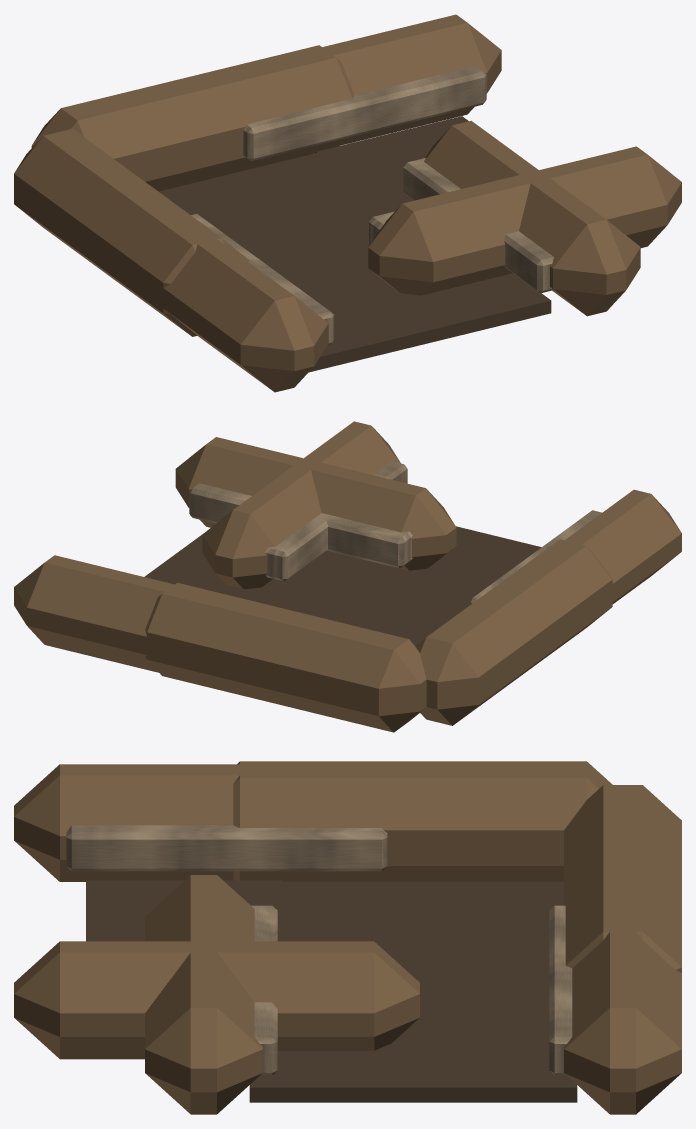
Rendered from trench_corner.glb.
3 views of the same model, one above another, from view 1: azimuth 30°, elevation 25°; view 2: azimuth 150°, elevation 25°; view 3: azimuth 270°, elevation 25° (orthographic). The views are drawn at different scales.
Visible parts, largest first — view 1: trench_corner__Earth_revetment, trench_corner__Trench_dark_earth, trench_corner__Timber_worn_edges; view 2: trench_corner__Earth_revetment, trench_corner__Trench_dark_earth, trench_corner__Timber_worn_edges; view 3: trench_corner__Earth_revetment, trench_corner__Trench_dark_earth, trench_corner__Timber_worn_edges.
Part boxes in pixels (<box>): trench_corner__Earth_revetment: <box>14,14,681,392</box>; trench_corner__Trench_dark_earth: <box>159,116,551,372</box>; trench_corner__Timber_worn_edges: <box>191,66,553,344</box>; trench_corner__Earth_revetment: <box>14,421,681,732</box>; trench_corner__Trench_dark_earth: <box>144,526,541,645</box>; trench_corner__Timber_worn_edges: <box>189,461,601,605</box>; trench_corner__Earth_revetment: <box>14,761,681,1114</box>; trench_corner__Trench_dark_earth: <box>86,880,577,1102</box>; trench_corner__Timber_worn_edges: <box>66,825,572,1075</box>.
Size of the model in its own units: 1.02 by 0.18 by 1.02.
3 materials, 1 textured.
